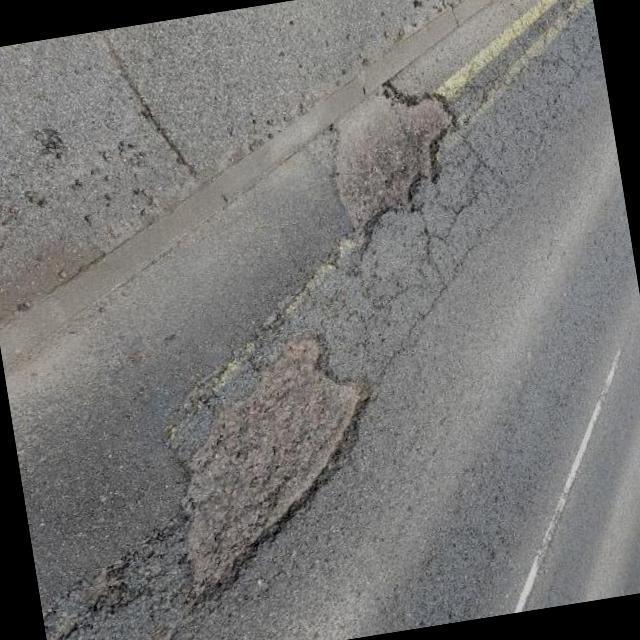pothole: (142, 320, 408, 616), (319, 70, 481, 264)
